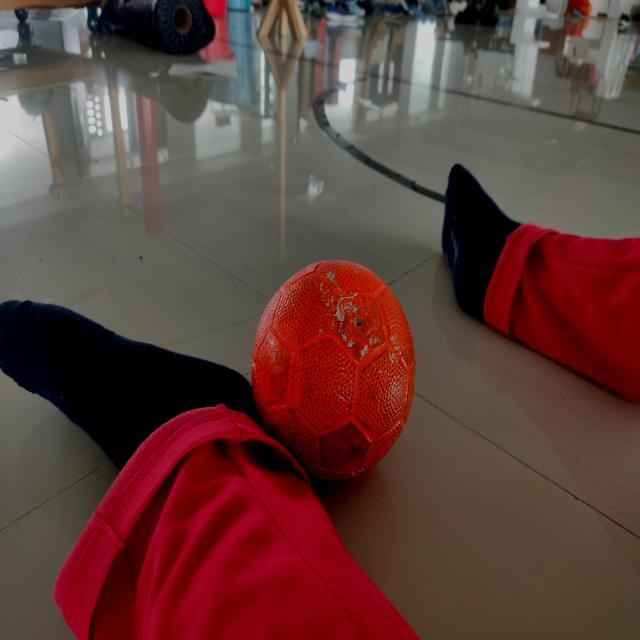bola: (252, 257, 428, 502)
